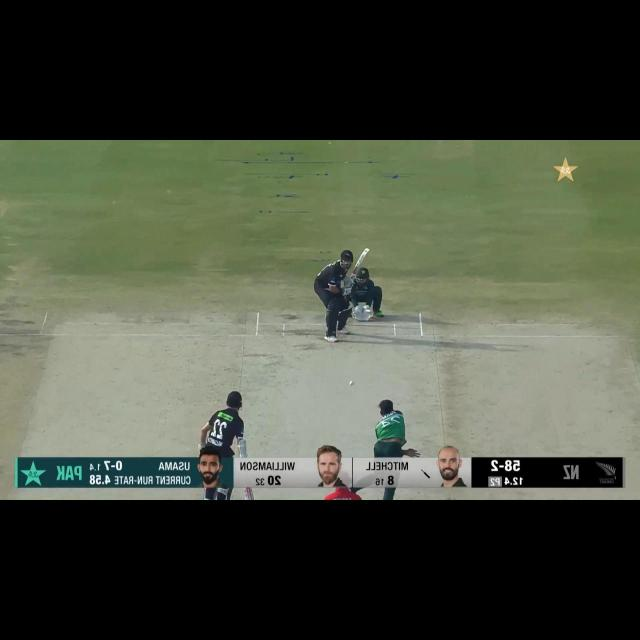bat: (350, 247, 371, 280)
toe: (244, 487, 255, 501), (363, 246, 372, 255)
